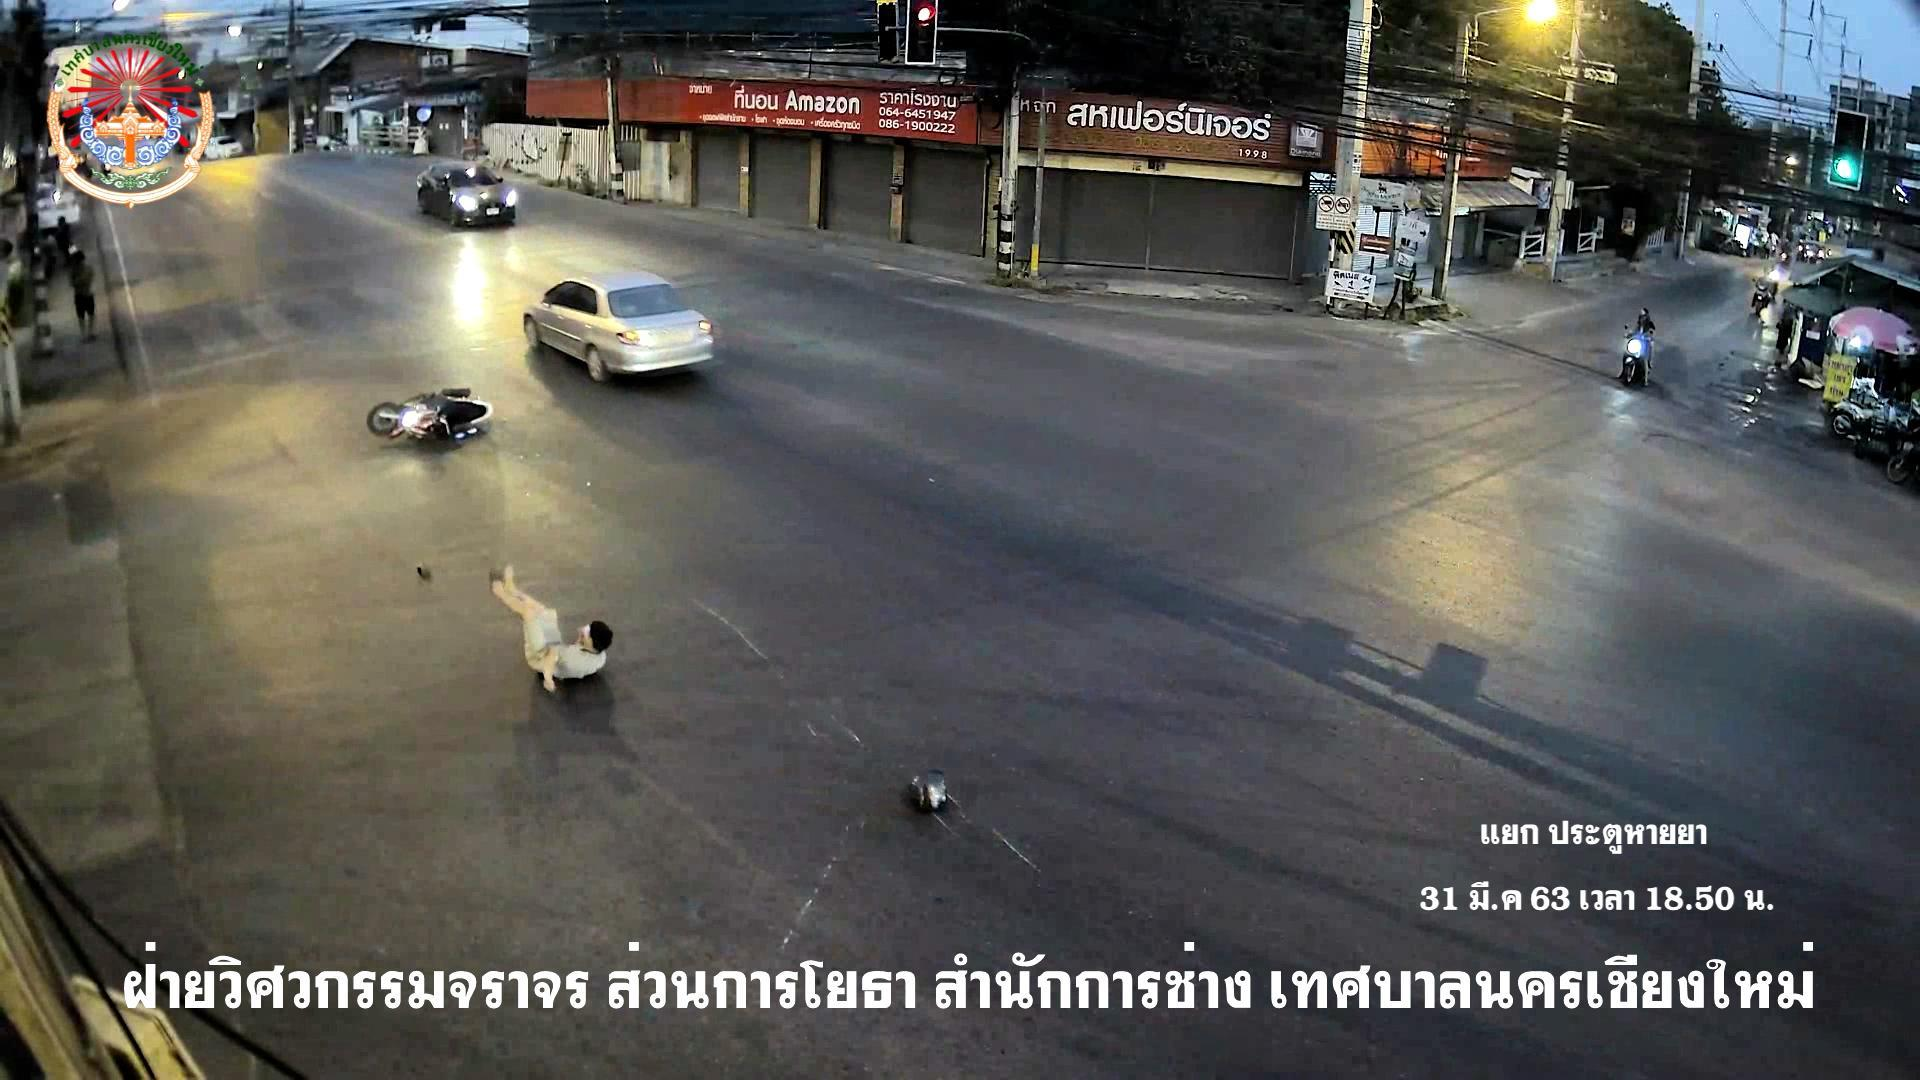accident: (477, 553, 636, 712)
